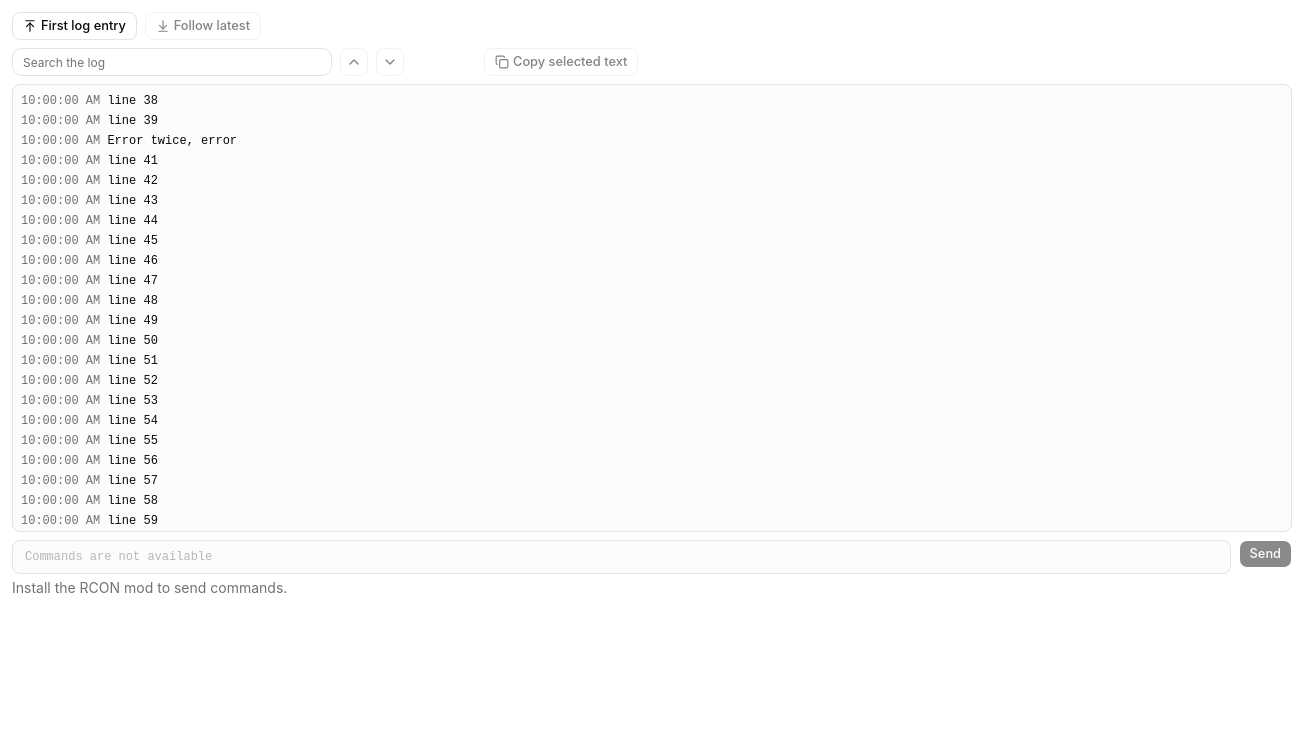
Test: searching the console › steps with the Next and Previous buttons
The width and height of the screenshot is (1304, 732).
(page scrolled)
In the search field named "Search the console": (172, 62) [12, 48, 332, 76], type "error"
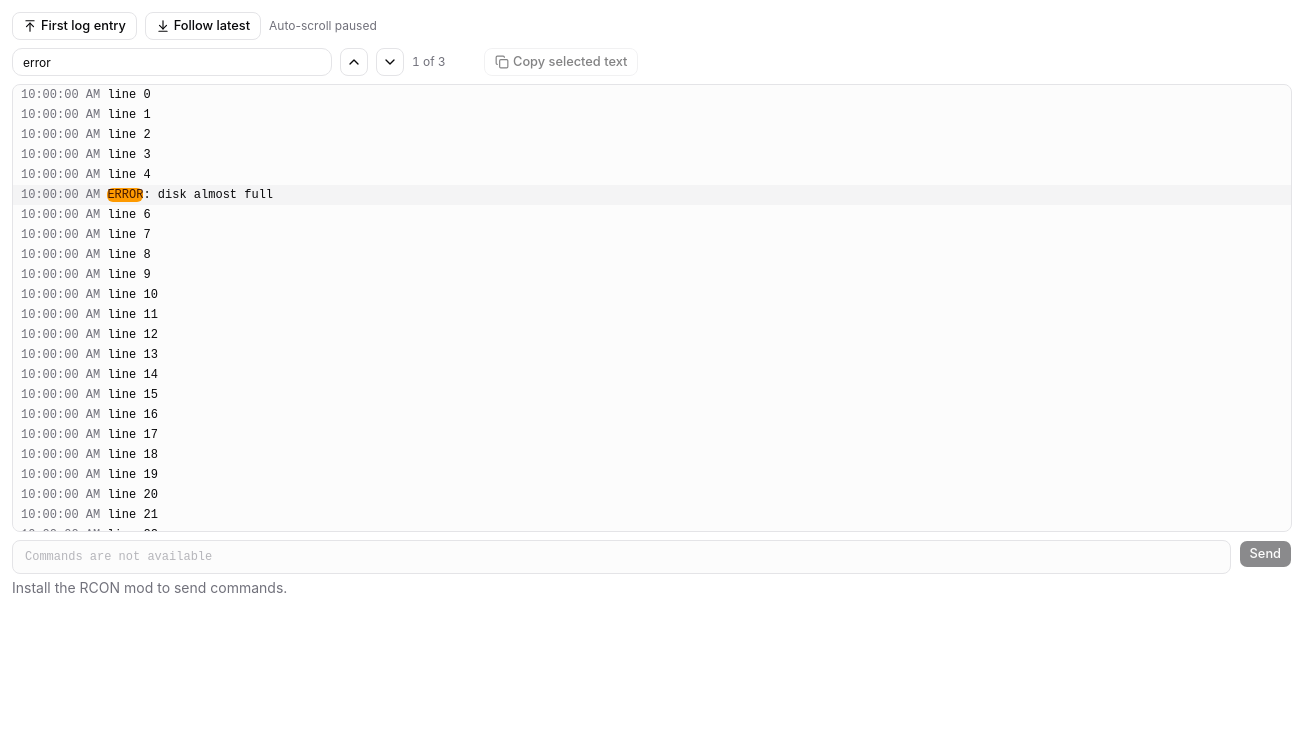
Click the button named "Next match": (390, 62) [376, 48, 404, 76]
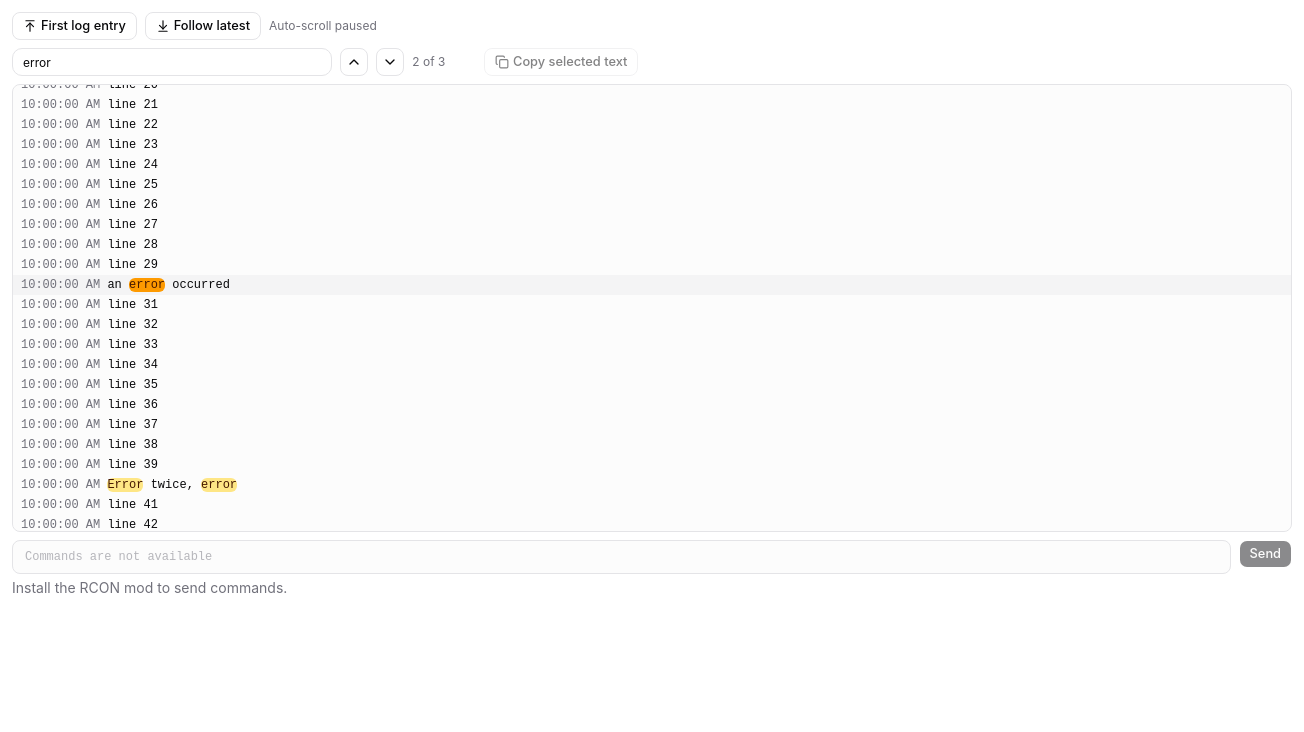
Check: the text "2 of 3" is shown, box [412, 54, 446, 69]
Click the button named "Previous match": (354, 62) [340, 48, 368, 76]
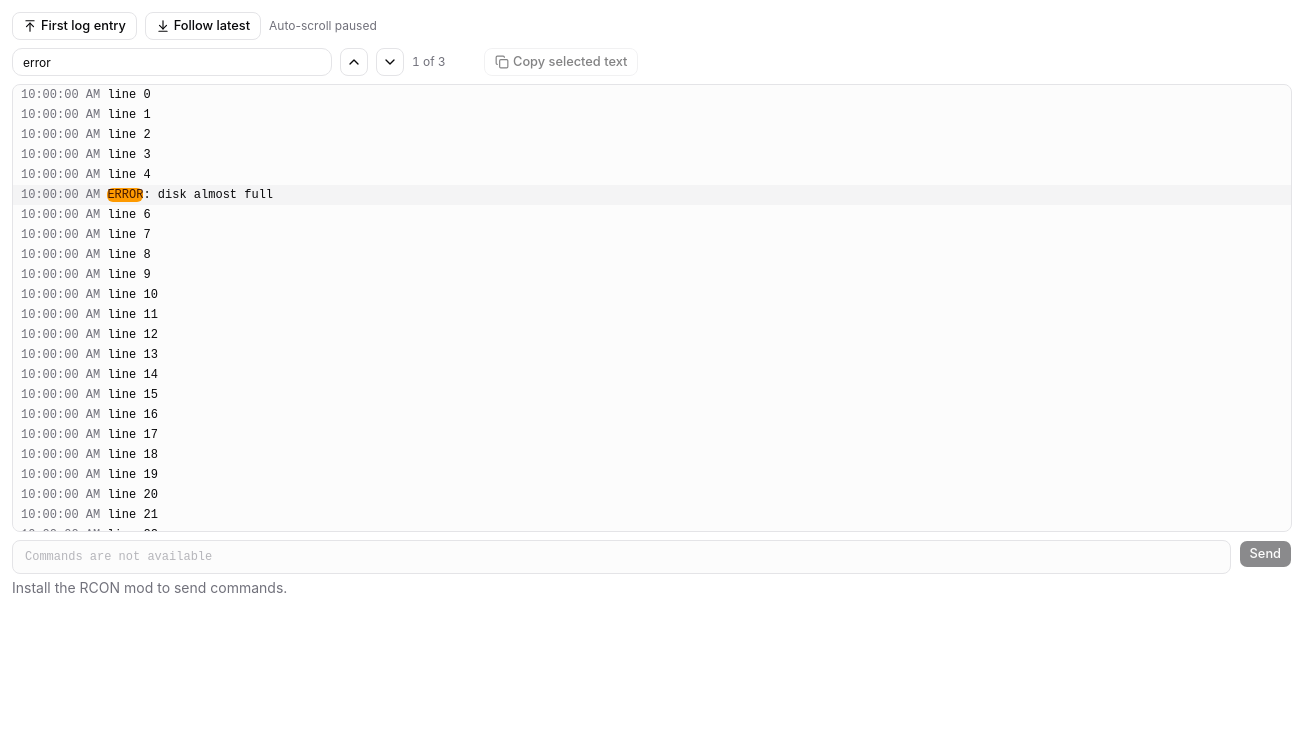
Check: the text "1 of 3" is shown, box [412, 54, 446, 69]
